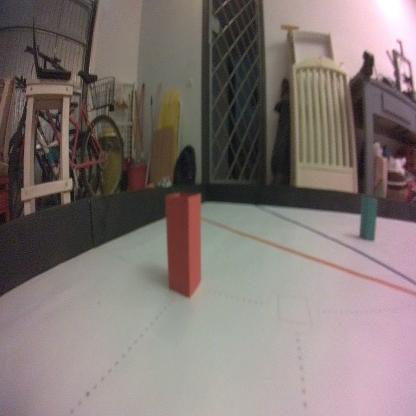green: (359, 195, 377, 243)
red: (164, 191, 202, 298)
